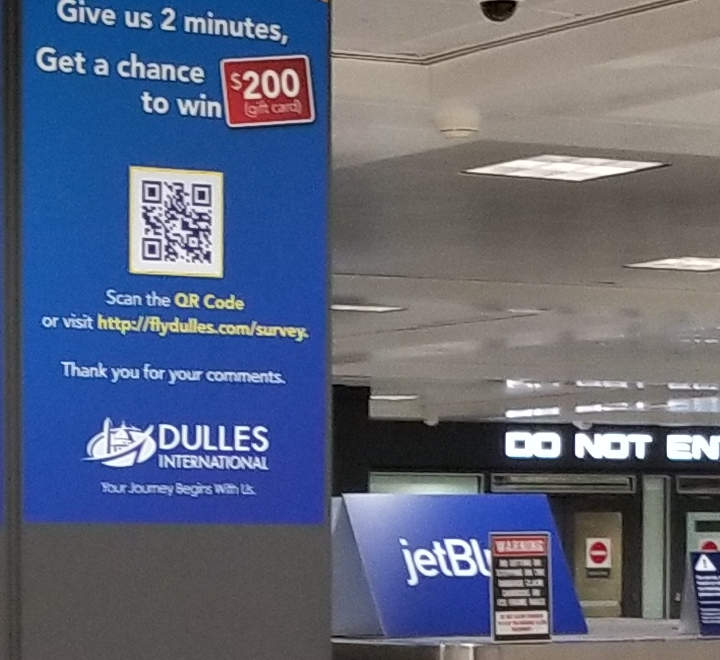QR_CODE: (130, 167, 231, 279)
